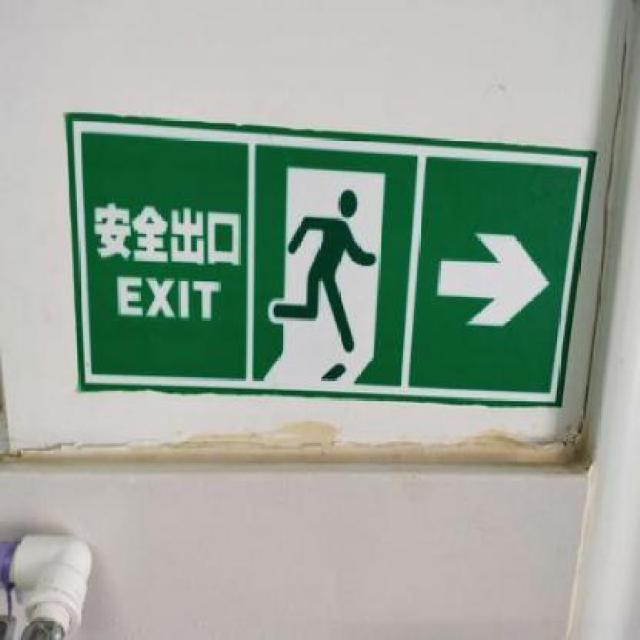exit_sign: (57, 103, 577, 425)
